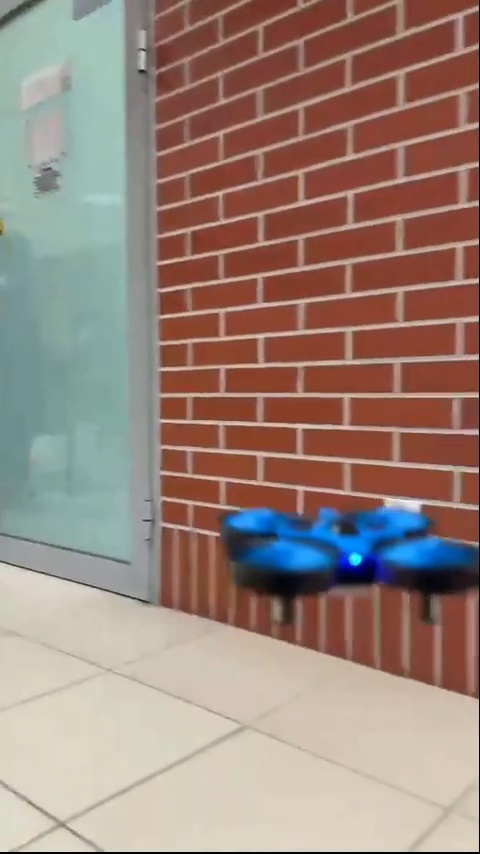drone: (221, 502, 474, 628)
